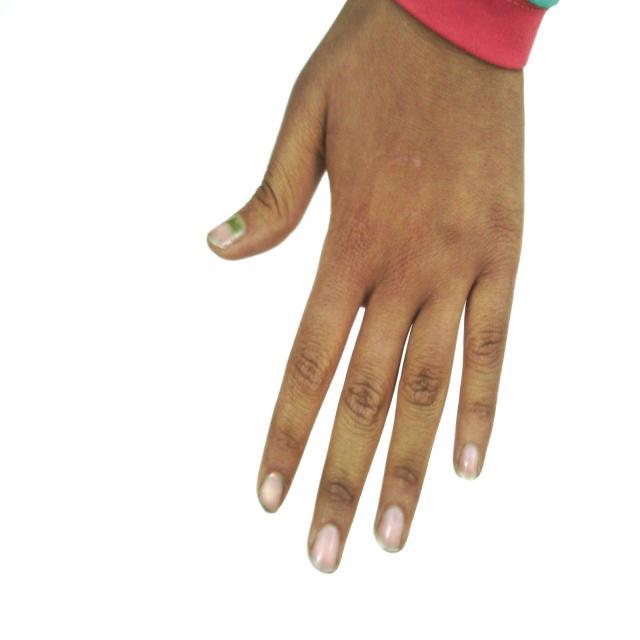Fingernail: (311, 524, 342, 573), (378, 506, 404, 553), (209, 215, 245, 248), (261, 473, 284, 512), (457, 443, 479, 480)
